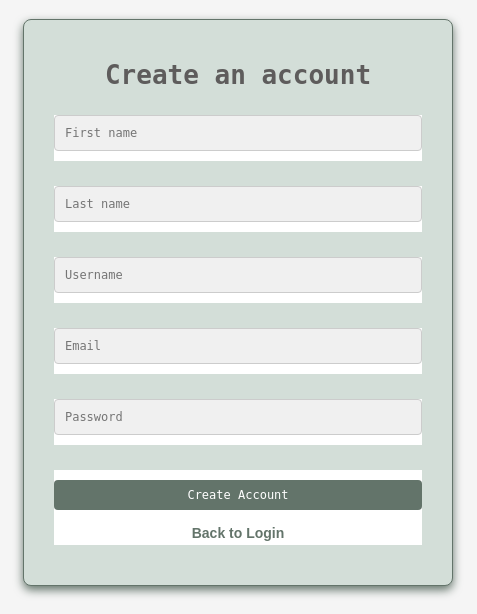
Scenario: Account Creation Tests › should display validation errors for empty form submission
The width and height of the screenshot is (477, 614).
Click the submit button. click: (238, 495)
box: top-left (54, 480), bottom-right (422, 510)
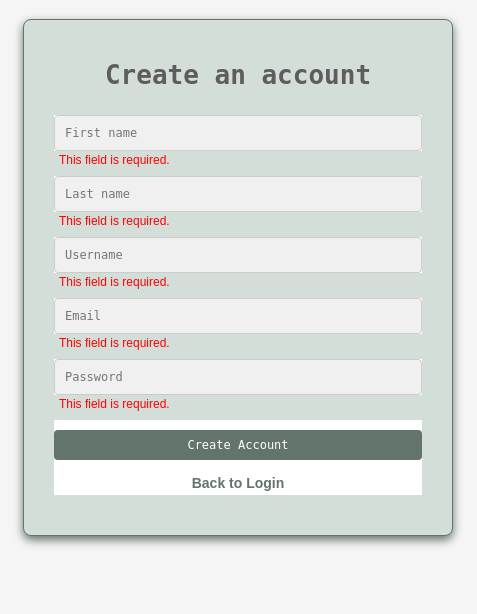
Expected: the text "This field is required" is shown once, top-left (59, 153), bottom-right (170, 167)
